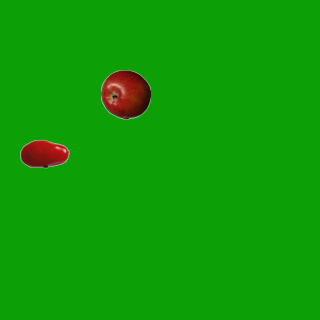Apple Braeburn: (100, 69, 150, 119)
Tomato 2: (19, 128, 69, 178)
